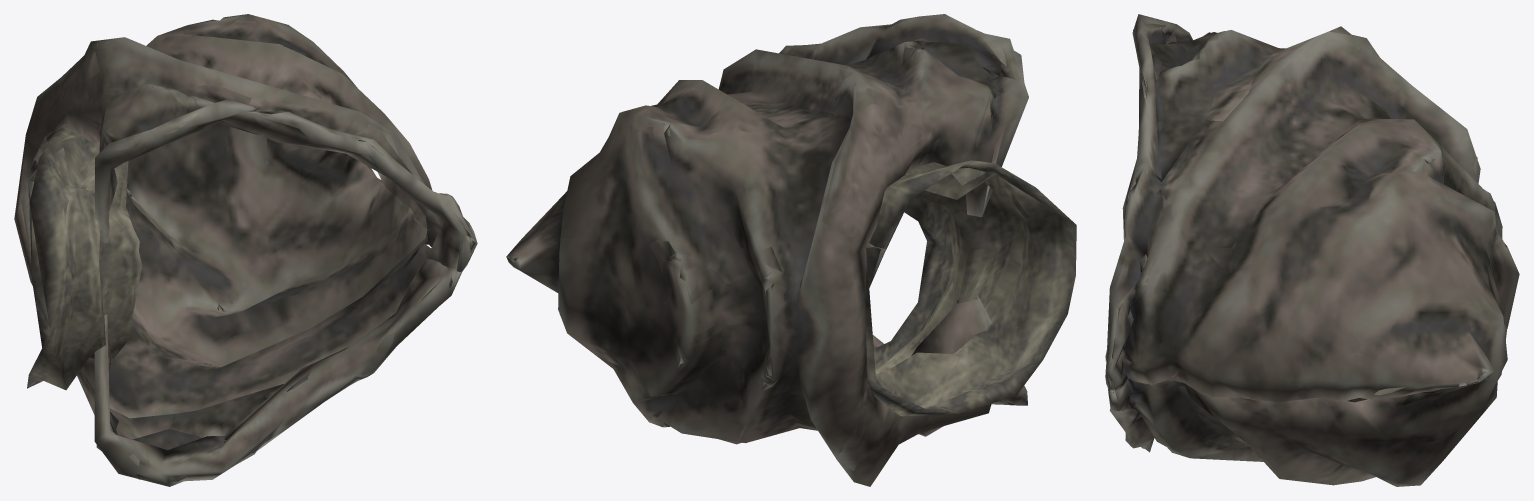
The model's file is F_CazadorHood.fbx.
The picture shows the model from 3 angles, left to right: view 1: azimuth 30°, elevation 25°; view 2: azimuth 150°, elevation 25°; view 3: azimuth 270°, elevation 25°; orthographic projection. The views are drawn at different scales.
Parts seen in each view (by area): view 1: hoodie; view 2: hoodie; view 3: hoodie.
Part boxes in pixels (<box>): hoodie: <box>14,14,477,486</box>; hoodie: <box>506,14,1076,486</box>; hoodie: <box>1105,14,1519,486</box>.
Bounding box in the file's own units: 0.1867 × 0.1635 × 0.1452.
